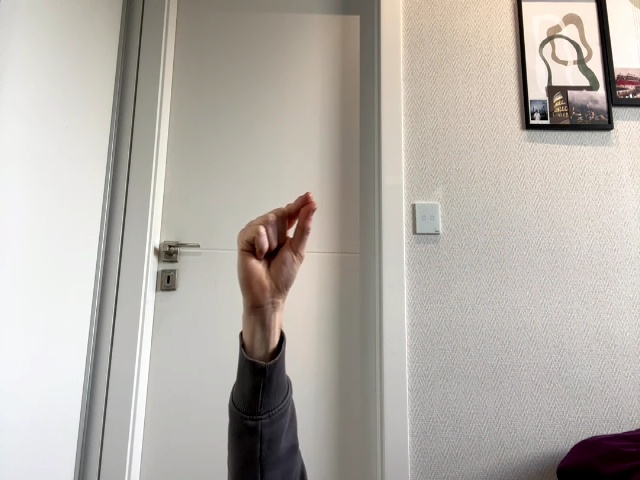P: (237, 192, 317, 306)
